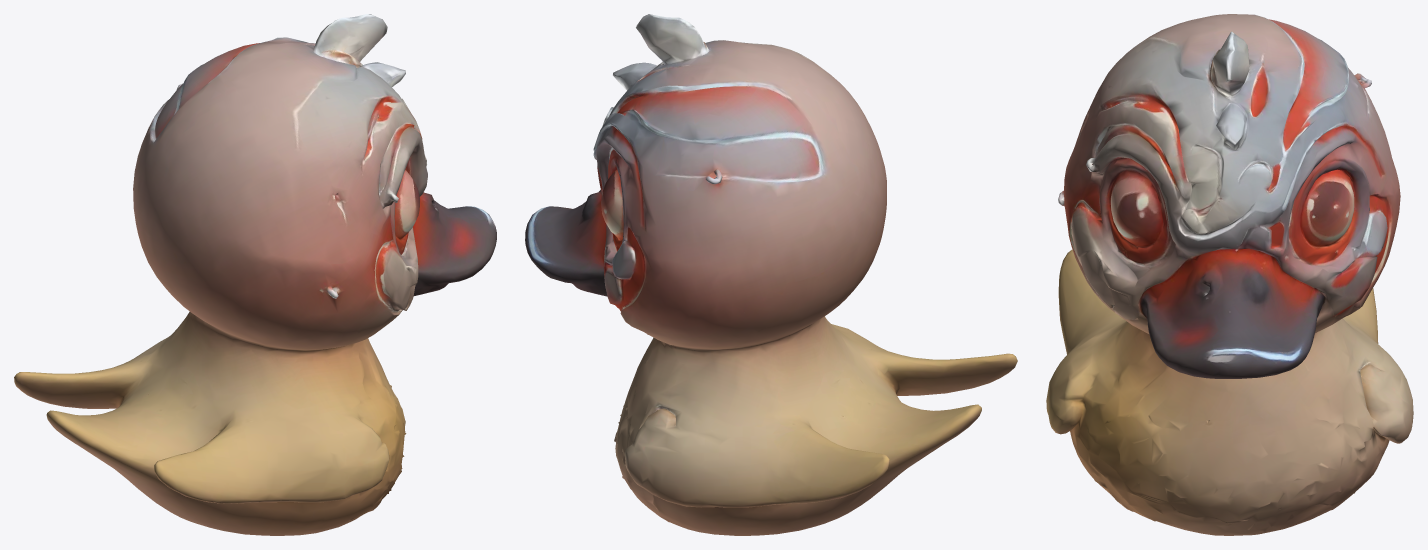
File: head.glb
3 views of the same model, side by side, from view 1: azimuth 30°, elevation 25°; view 2: azimuth 150°, elevation 25°; view 3: azimuth 270°, elevation 25° (orthographic). The views are drawn at different scales.
Visible parts, largest first — view 1: tripo_node_eacca6a6-c802-4059-b259-c2dbff2aa0b5; view 2: tripo_node_eacca6a6-c802-4059-b259-c2dbff2aa0b5; view 3: tripo_node_eacca6a6-c802-4059-b259-c2dbff2aa0b5.
Part boxes in pixels (x1=…): tripo_node_eacca6a6-c802-4059-b259-c2dbff2aa0b5: x1=14, y1=14, x2=496, y2=535; tripo_node_eacca6a6-c802-4059-b259-c2dbff2aa0b5: x1=525, y1=14, x2=1017, y2=535; tripo_node_eacca6a6-c802-4059-b259-c2dbff2aa0b5: x1=1046, y1=14, x2=1413, y2=535.
Size of the model in its own units: 0.9906 by 1 by 0.6635.
1 material, 1 textured.
